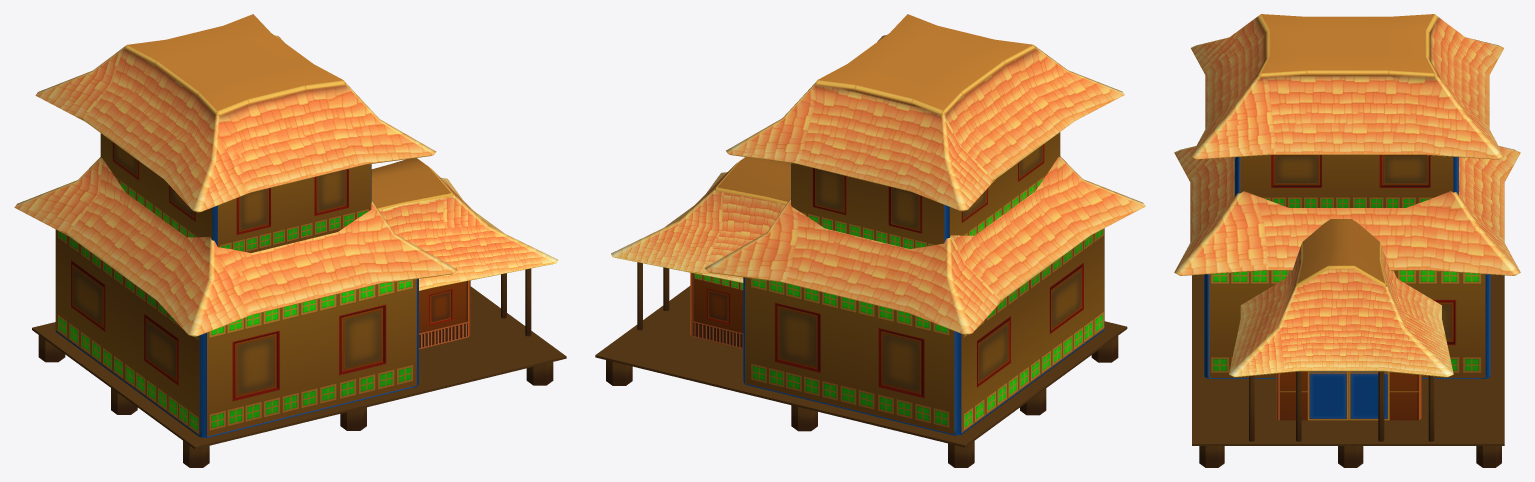
File: house_1.fbx
The picture shows the model from 3 angles, left to right: view 1: azimuth 30°, elevation 25°; view 2: azimuth 150°, elevation 25°; view 3: azimuth 270°, elevation 25°; orthographic projection. The views are drawn at different scales.
Visible parts, largest first — view 1: house_1; view 2: house_1; view 3: house_1.
Boxes of the visible parts, x1,y1,x2,y2 form: house_1: (14,14,566,467); house_1: (595,14,1145,467); house_1: (1174,14,1520,467).
Bounding box in the file's own units: 5.17 × 4.01 × 4.06.
